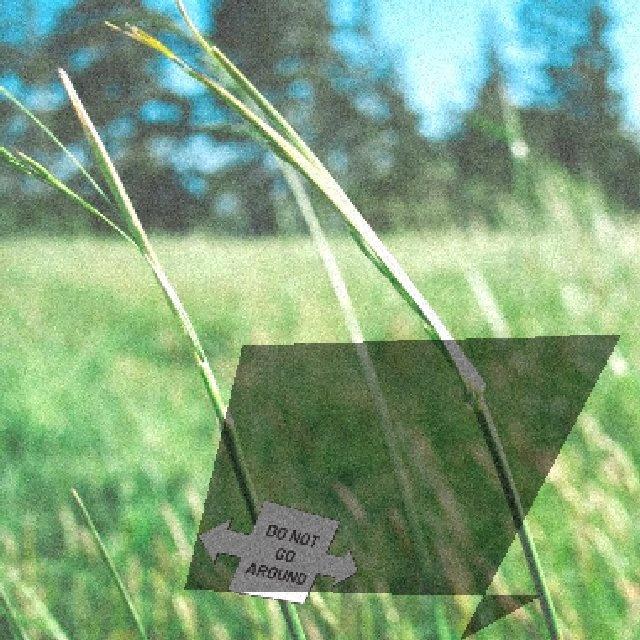DO_NOT_GO_AROUND: (196, 498, 357, 603)
